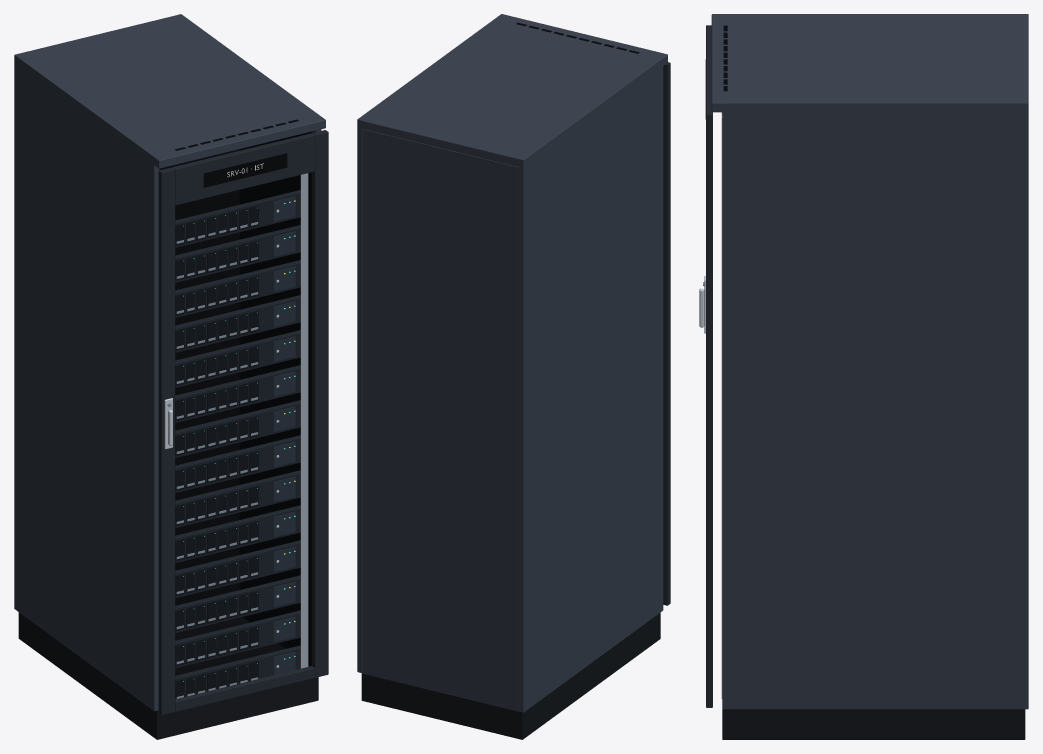
Rendered from server-cabinet.glb.
The picture shows the model from 3 angles, left to right: view 1: azimuth 30°, elevation 25°; view 2: azimuth 150°, elevation 25°; view 3: azimuth 270°, elevation 25°; orthographic projection. The views are drawn at different scales.
Parts seen in each view (by area): view 1: ServerCabinet; view 2: ServerCabinet; view 3: ServerCabinet.
Part boxes in pixels (x1=…): ServerCabinet: x1=14, y1=14, x2=328, y2=739; ServerCabinet: x1=357, y1=14, x2=670, y2=739; ServerCabinet: x1=699, y1=14, x2=1028, y2=739.
Bounding box in the file's own units: 0.6 × 2 × 0.935.
